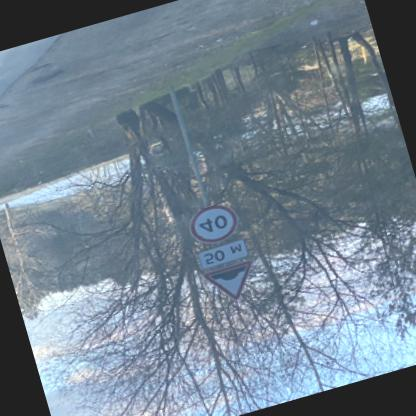speedlimit: (184, 202, 239, 249)
